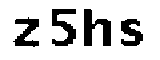5: (49, 7, 79, 49)
h: (82, 6, 114, 50)
s: (121, 17, 145, 49)
z: (14, 15, 41, 50)
